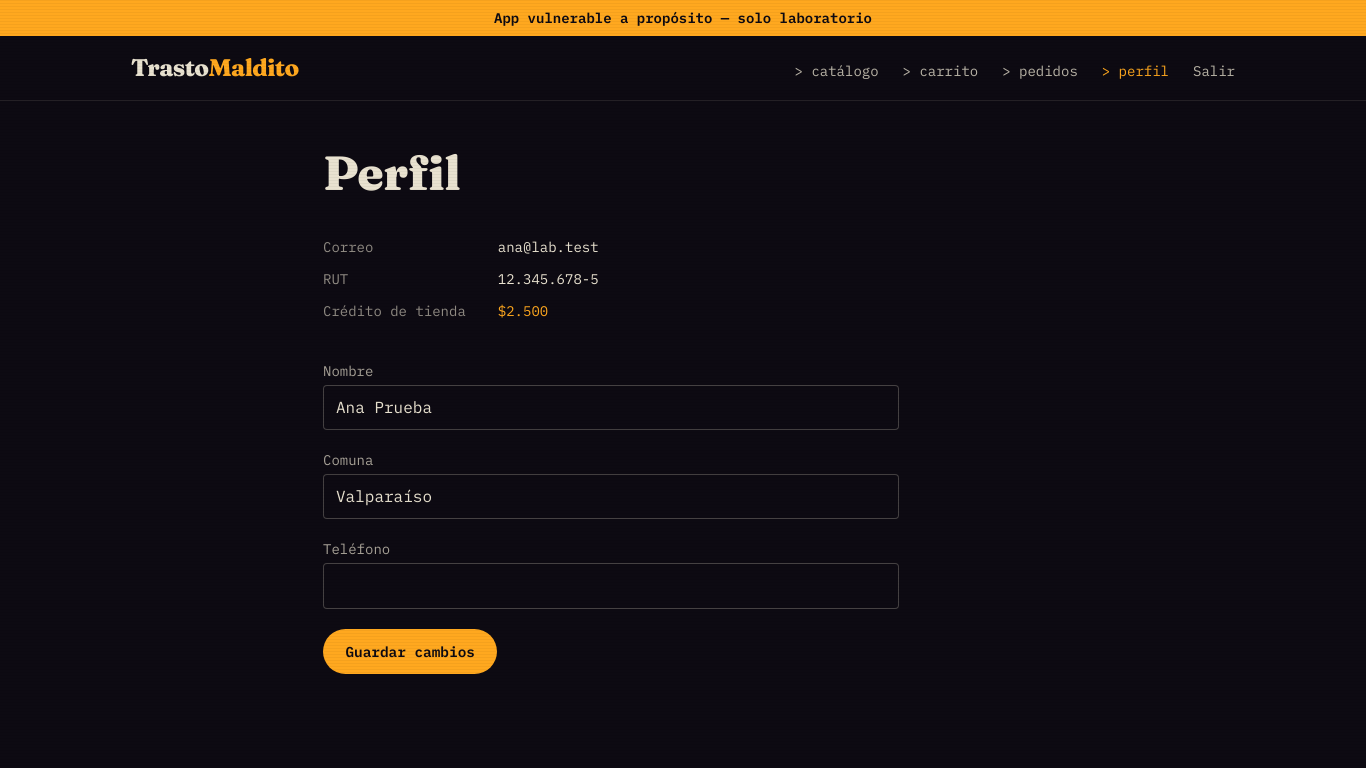
perfil (F2) › muestra los datos fijos y edita solo nombre, comuna y teléfono
This screenshot has width=1366, height=768.
Expected: the text "12.345.678-5" is shown, [498,270,599,288]
Expected: the text "ana@lab.test" is shown, [498,238,599,256]
Replace the text in the field labelled "Nombre" with "Ana P." at (611, 408), box [323,385,899,430]
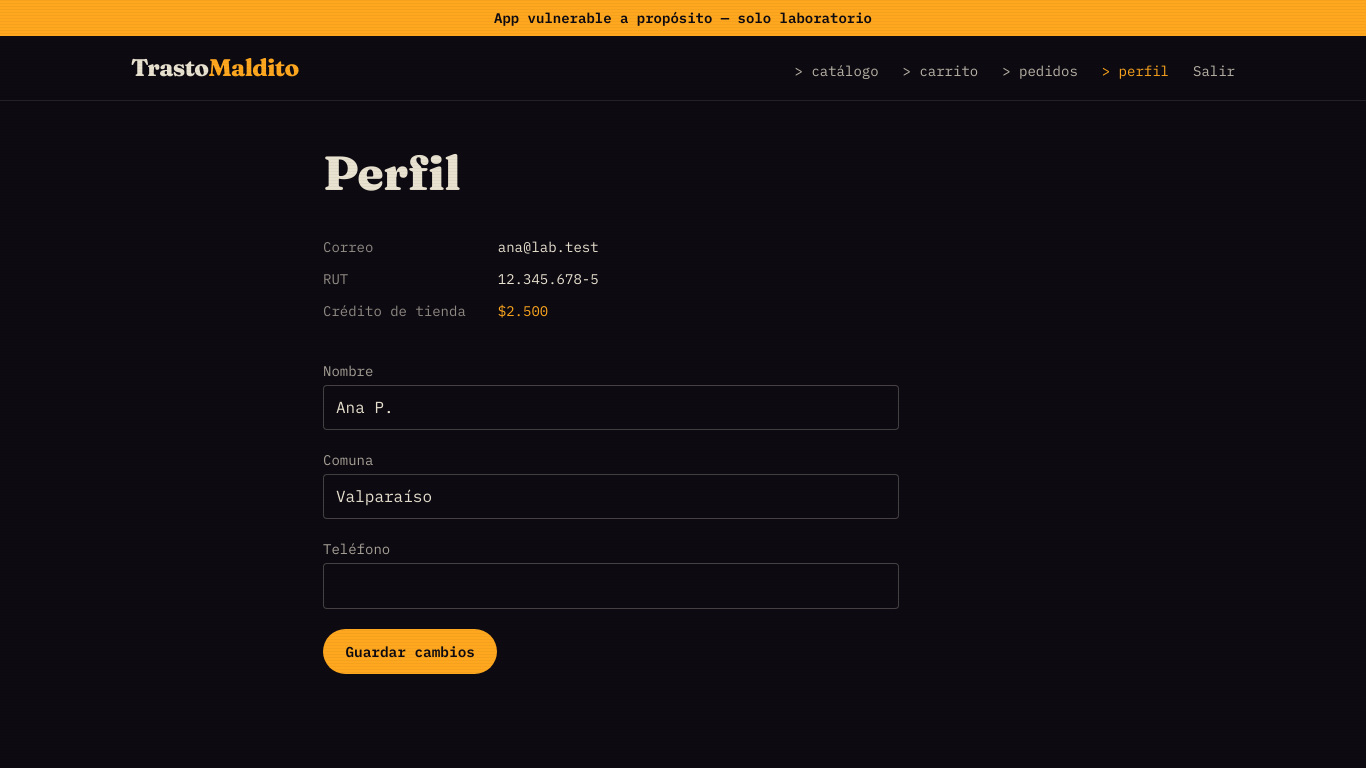
Type "+56 9 1111 2222" into the field labelled "Teléfono" at (611, 586), box [323,563,899,609]
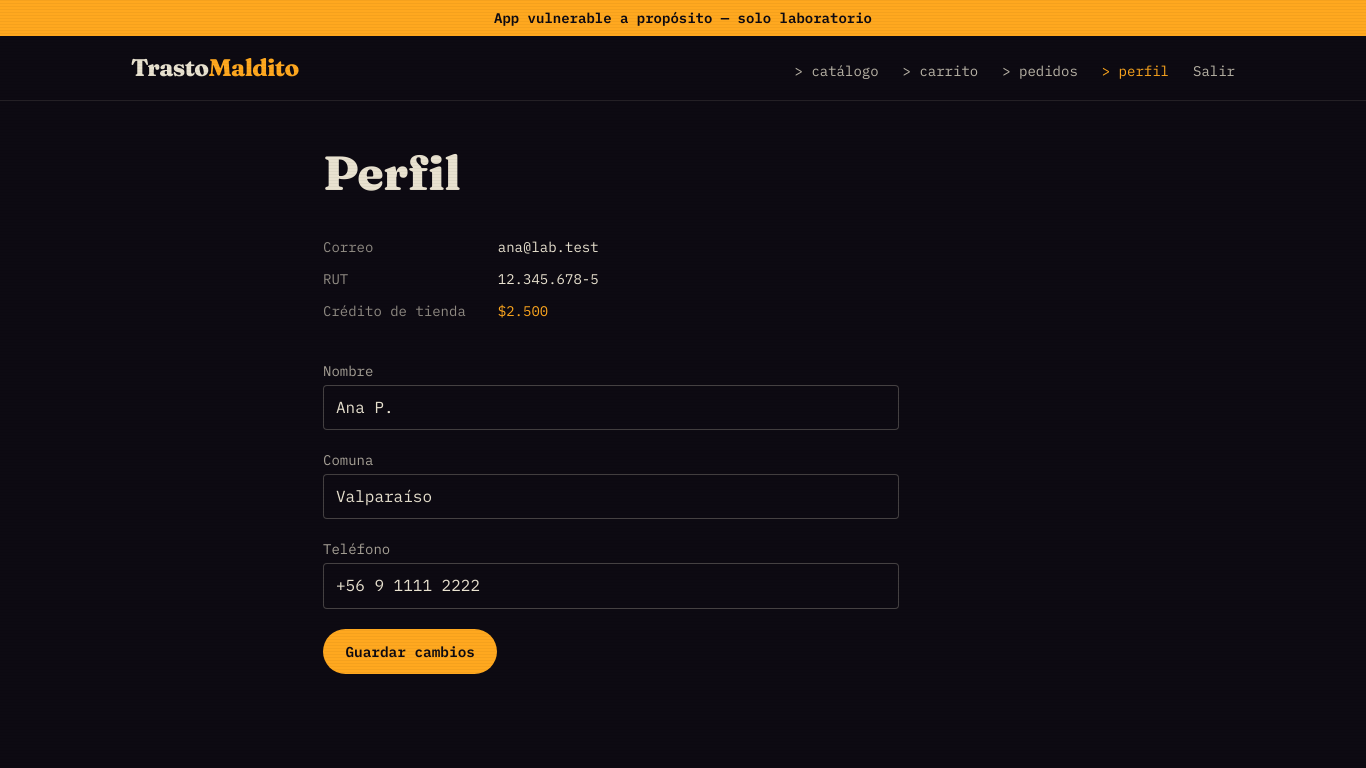
Click the button "Guardar cambios" at (410, 651), box [323,629,497,674]
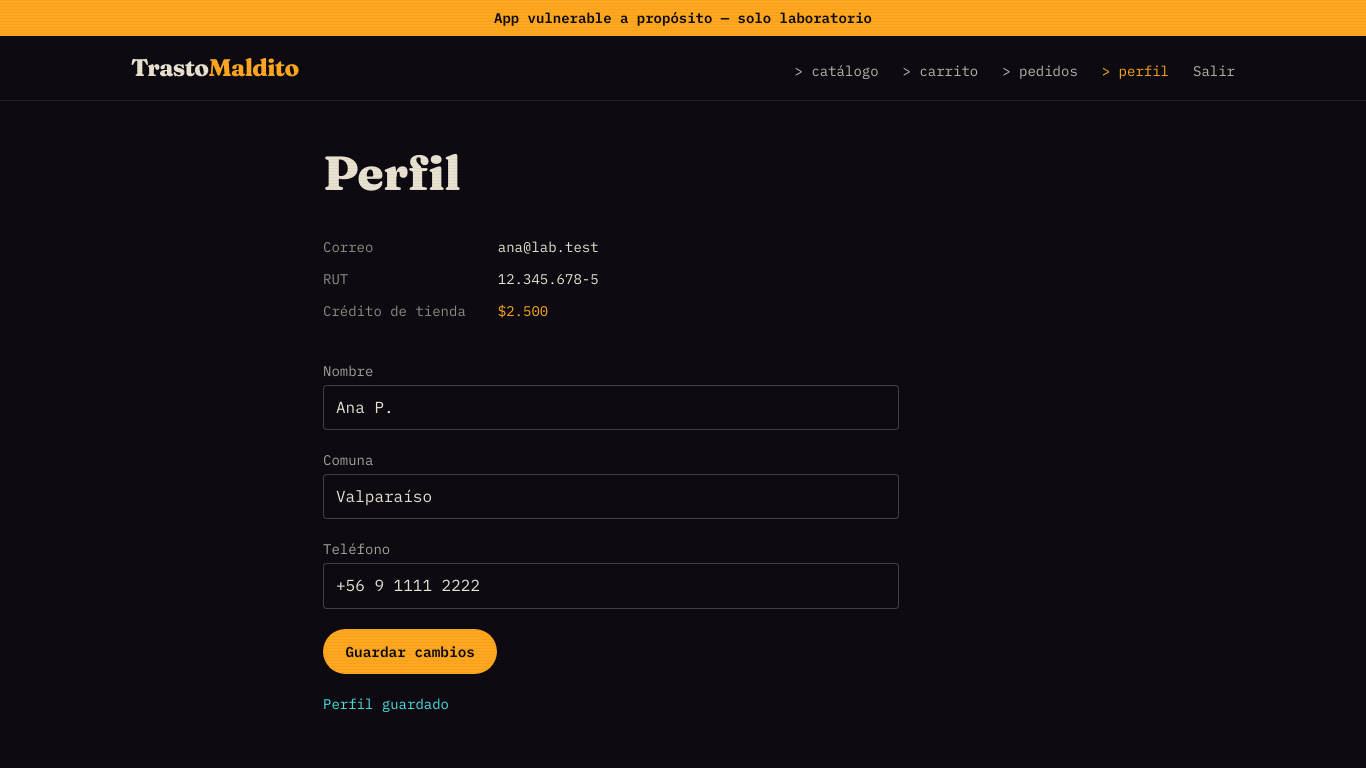
Expected: the message reads "Perfil guardado", [323,695,449,713]
